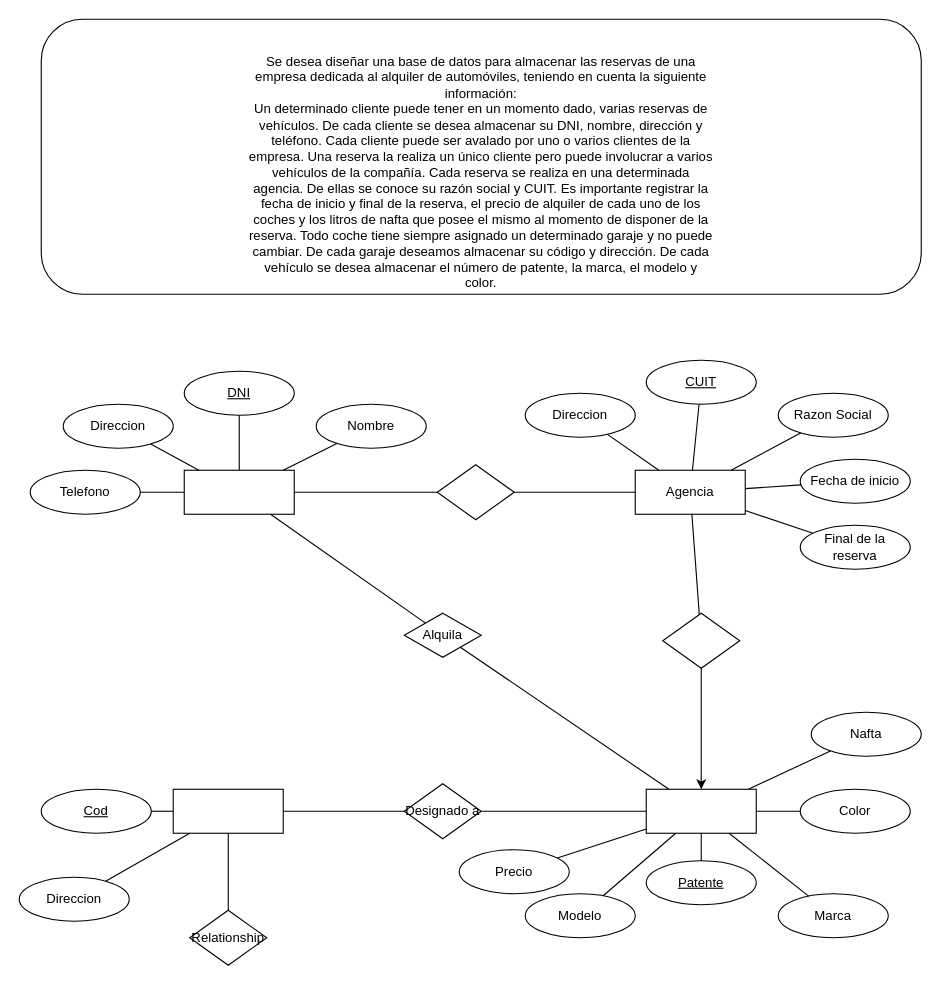
The diagram is 941 pixels wide and 985 high, and some of its shapes have lost their labels. Each missing label, with the box of its shape:
Avalado: (436, 464, 514, 520)
Cliente: (183, 469, 294, 514)
Garage: (172, 788, 283, 833)
Reserva: (662, 612, 740, 668)
Vehiculo: (645, 788, 756, 833)
